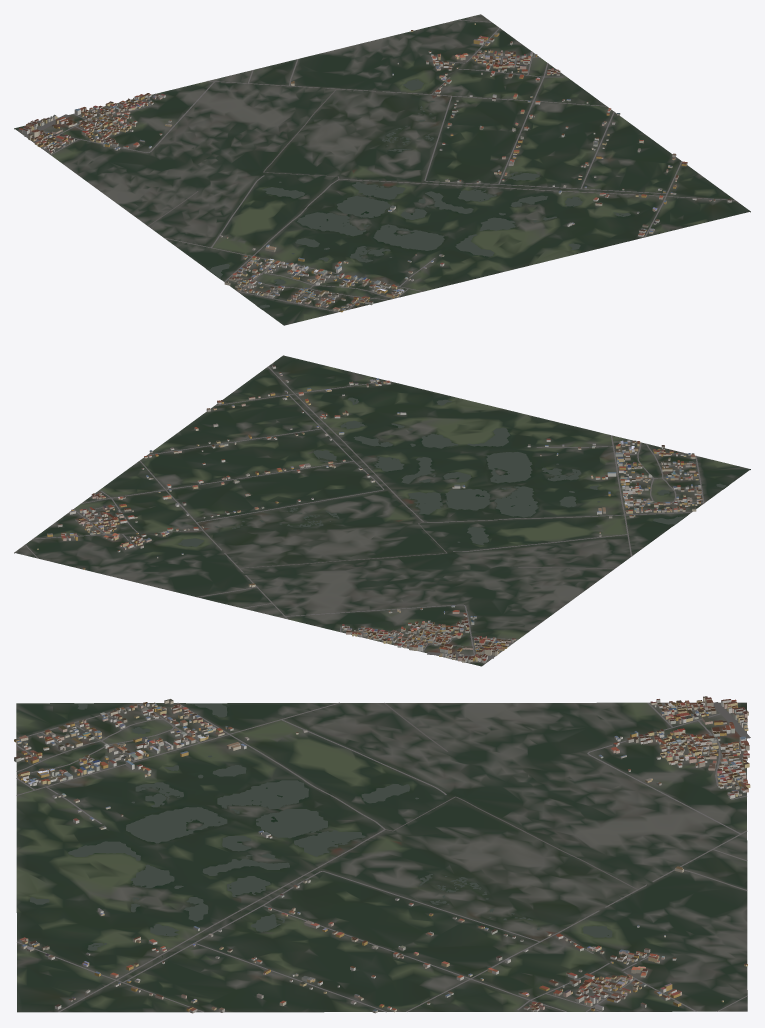
3 views of the same model, one above another, from view 1: azimuth 30°, elevation 25°; view 2: azimuth 150°, elevation 25°; view 3: azimuth 270°, elevation 25° (orthographic). The views are drawn at different scales.
Parts seen in each view (by area): view 1: ground, buildings, water, roads; view 2: ground, buildings, water, roads; view 3: ground, buildings, water, roads.
Boxes of the visible parts, bbox=[...] form: ground: bbox=[14, 14, 750, 325]; buildings: bbox=[18, 23, 731, 312]; water: bbox=[209, 79, 630, 308]; roads: bbox=[24, 20, 735, 312]; ground: bbox=[14, 355, 750, 666]; buildings: bbox=[37, 365, 702, 663]; water: bbox=[178, 397, 725, 546]; roads: bbox=[25, 366, 704, 660]; ground: bbox=[16, 702, 747, 1012]; buildings: bbox=[14, 696, 750, 1013]; water: bbox=[30, 703, 612, 950]; roads: bbox=[16, 702, 750, 1012].
Size of the model in its own units: 1414 by 21.01 by 1414.
